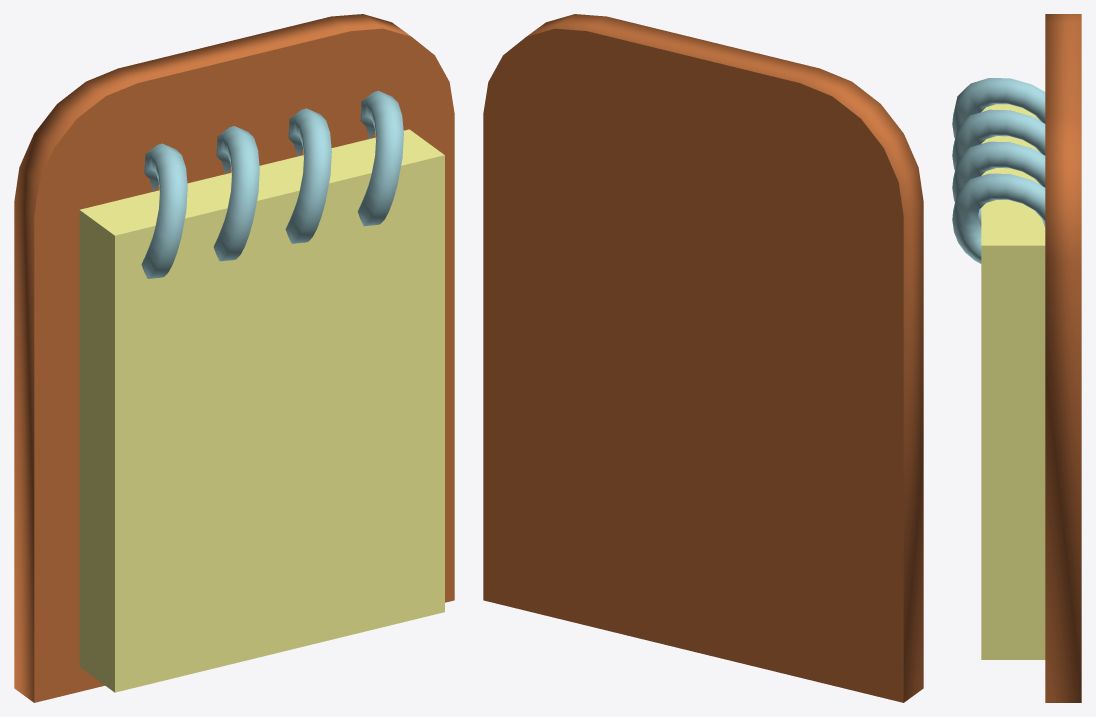
The model's file is notepad.fbx.
The picture shows the model from 3 angles, left to right: view 1: azimuth 30°, elevation 25°; view 2: azimuth 150°, elevation 25°; view 3: azimuth 270°, elevation 25°; orthographic projection. The views are drawn at different scales.
Parts seen in each view (by area): view 1: NOTEPAD; view 2: NOTEPAD; view 3: NOTEPAD.
Part boxes in pixels (<box>): NOTEPAD: <box>14,14,454,702</box>; NOTEPAD: <box>483,14,923,702</box>; NOTEPAD: <box>952,14,1081,702</box>.
Bounding box in the file's own units: 277 × 375 × 81.46.
